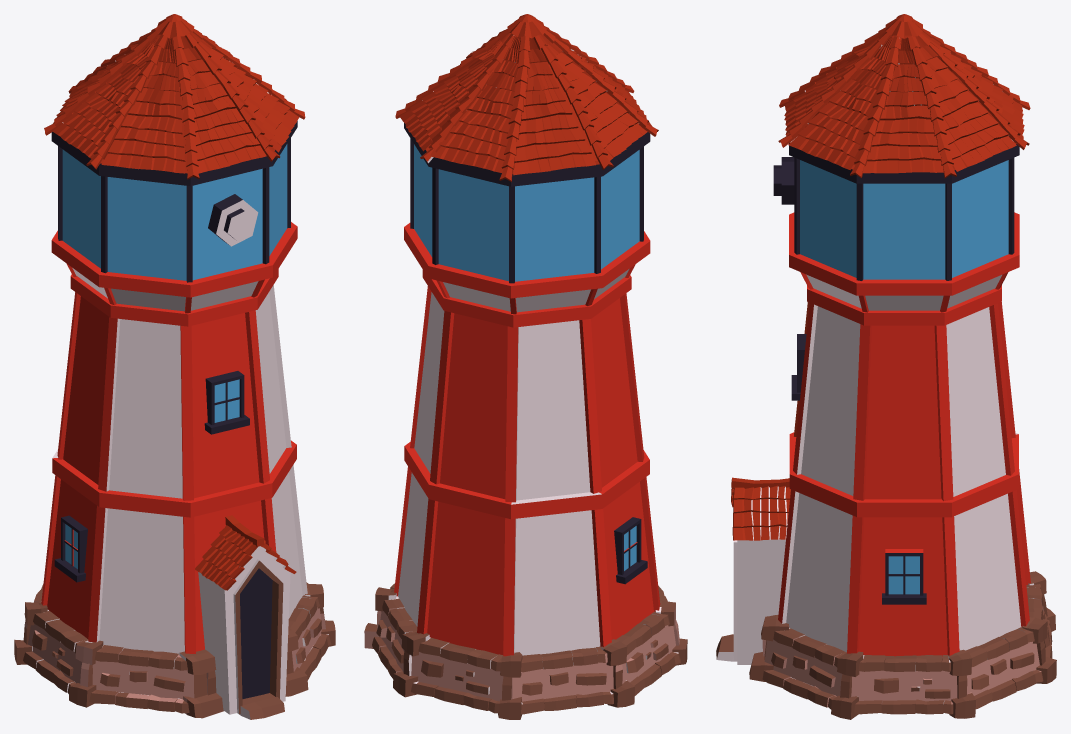
File: lighthouse.fbx
3 renders of one model, left to right at view 1: azimuth 30°, elevation 25°; view 2: azimuth 150°, elevation 25°; view 3: azimuth 270°, elevation 25°, orthographic.
Parts seen in each view (by area): view 1: lighthouse; view 2: lighthouse; view 3: lighthouse.
Boxes of the visible parts, x1=… form: lighthouse: x1=14, y1=14, x2=335, y2=719; lighthouse: x1=364, y1=14, x2=687, y2=719; lighthouse: x1=716, y1=14, x2=1056, y2=719.
Size of the model in its own units: 225 by 515 by 249.
